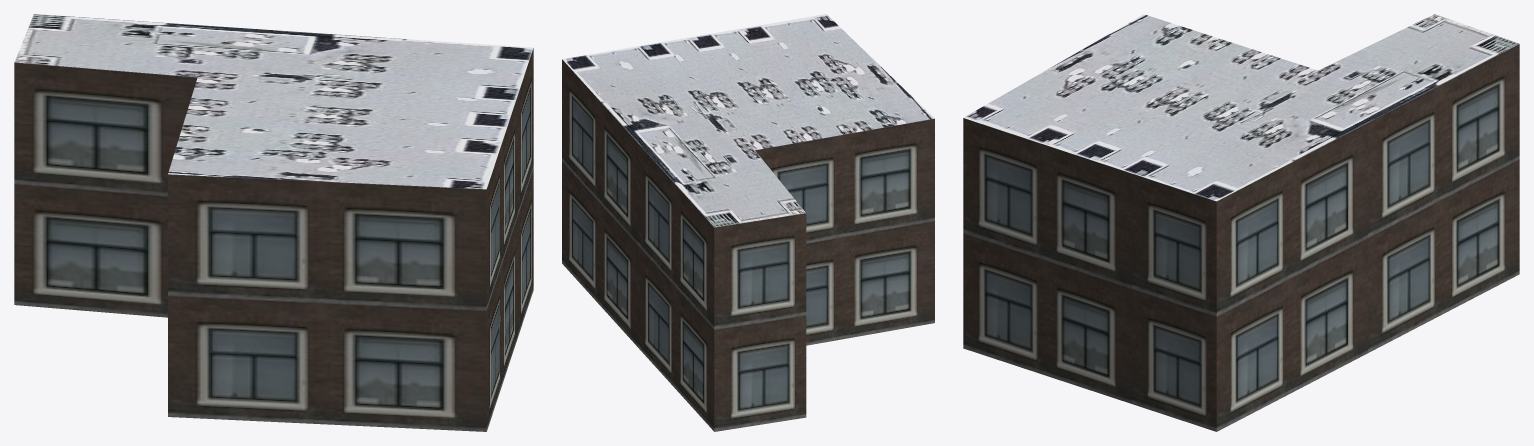
The model's file is ResTex__3199.fbx.
The picture shows the model from 3 angles, left to right: view 1: azimuth 30°, elevation 25°; view 2: azimuth 150°, elevation 25°; view 3: azimuth 270°, elevation 25°; orthographic projection. The views are drawn at different scales.
Visible parts, largest first — view 1: CityEngineMaterial_16_m, CityEngineMaterial_15_m; view 2: CityEngineMaterial_16_m, CityEngineMaterial_15_m; view 3: CityEngineMaterial_16_m, CityEngineMaterial_15_m.
Part boxes in pixels (<box>): CityEngineMaterial_16_m: <box>14,48,533,431</box>; CityEngineMaterial_15_m: <box>14,14,533,189</box>; CityEngineMaterial_16_m: <box>562,59,934,431</box>; CityEngineMaterial_15_m: <box>562,14,934,227</box>; CityEngineMaterial_16_m: <box>963,44,1519,431</box>; CityEngineMaterial_15_m: <box>963,14,1519,201</box>.
Bounding box in the file's own units: 10.47 × 6 × 13.13.
2 materials, 2 textured.
